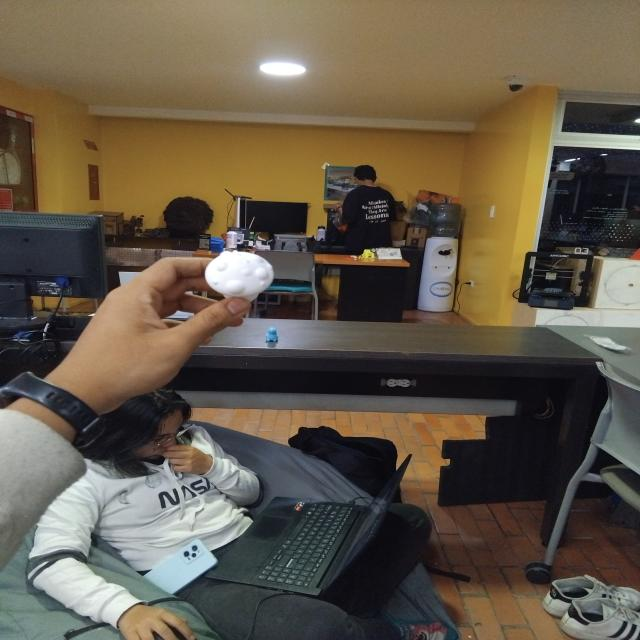Hongo: (198, 241, 271, 303)
